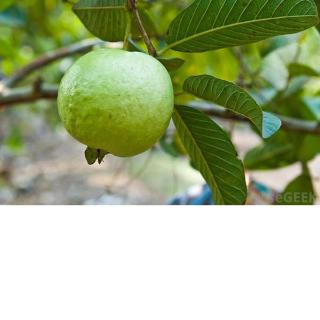oi: (57, 44, 179, 158)
